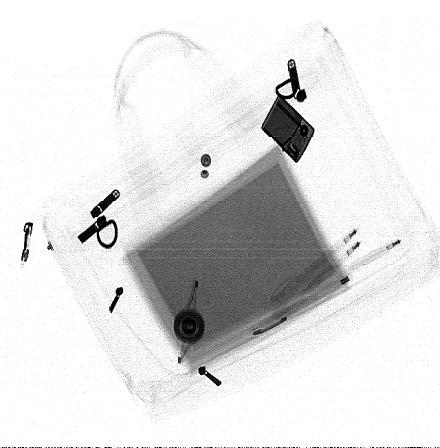Lighter: (261, 94, 316, 164)
